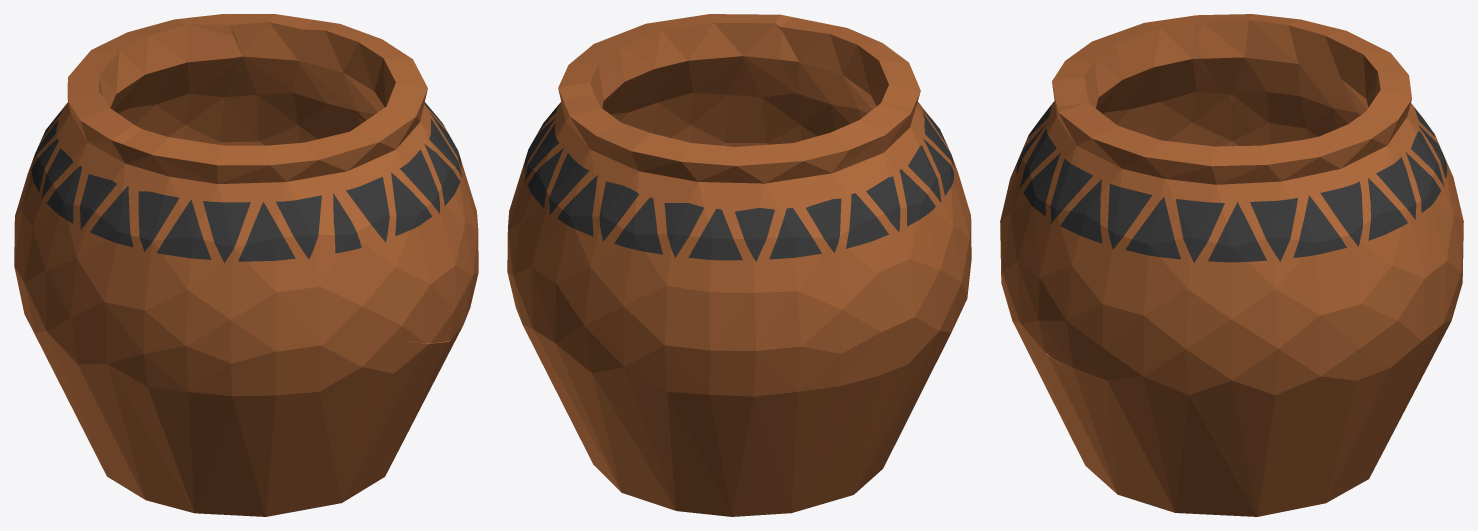
Rendered from Pottery 18_1b.fbx.
3 views of the same model, side by side, from view 1: azimuth 30°, elevation 25°; view 2: azimuth 150°, elevation 25°; view 3: azimuth 270°, elevation 25° (orthographic).
Visible parts, largest first — view 1: Pottery 18_1b.002, Pottery 18_1b.003, Pottery 18_1b.001, Pottery 18_1b.006, Pottery 18_1b.004, Pottery 18_1b, Pottery 18_1b.005; view 2: Pottery 18_1b.001, Pottery 18_1b.003, Pottery 18_1b, Pottery 18_1b.004, Pottery 18_1b.002, Pottery 18_1b.005; view 3: Pottery 18_1b.003, Pottery 18_1b.004, Pottery 18_1b.001, Pottery 18_1b, Pottery 18_1b.002, Pottery 18_1b.006.
Boxes of the visible parts, x1=… form: Pottery 18_1b.002: x1=39, y1=129, x2=384, y2=442; Pottery 18_1b.003: x1=298, y1=20, x2=478, y2=343; Pottery 18_1b.001: x1=14, y1=14, x2=234, y2=304; Pottery 18_1b.006: x1=178, y1=333, x2=457, y2=486; Pottery 18_1b.004: x1=172, y1=14, x2=363, y2=145; Pottery 18_1b: x1=90, y1=442, x2=394, y2=516; Pottery 18_1b.005: x1=22, y1=247, x2=177, y2=463; Pottery 18_1b.001: x1=594, y1=101, x2=926, y2=465; Pottery 18_1b.003: x1=526, y1=14, x2=814, y2=156; Pottery 18_1b: x1=543, y1=366, x2=901, y2=516; Pottery 18_1b.004: x1=507, y1=94, x2=621, y2=397; Pottery 18_1b.002: x1=779, y1=17, x2=971, y2=315; Pottery 18_1b.005: x1=809, y1=264, x2=959, y2=469; Pottery 18_1b.003: x1=1001, y1=103, x2=1346, y2=441; Pottery 18_1b.004: x1=1257, y1=111, x2=1462, y2=412; Pottery 18_1b.001: x1=1183, y1=14, x2=1463, y2=287; Pottery 18_1b: x1=1067, y1=342, x2=1440, y2=516; Pottery 18_1b.002: x1=1000, y1=17, x2=1251, y2=258; Pottery 18_1b.006: x1=1001, y1=259, x2=1254, y2=483.
Bounding box in the file's own units: 72 × 63.8 × 72.
